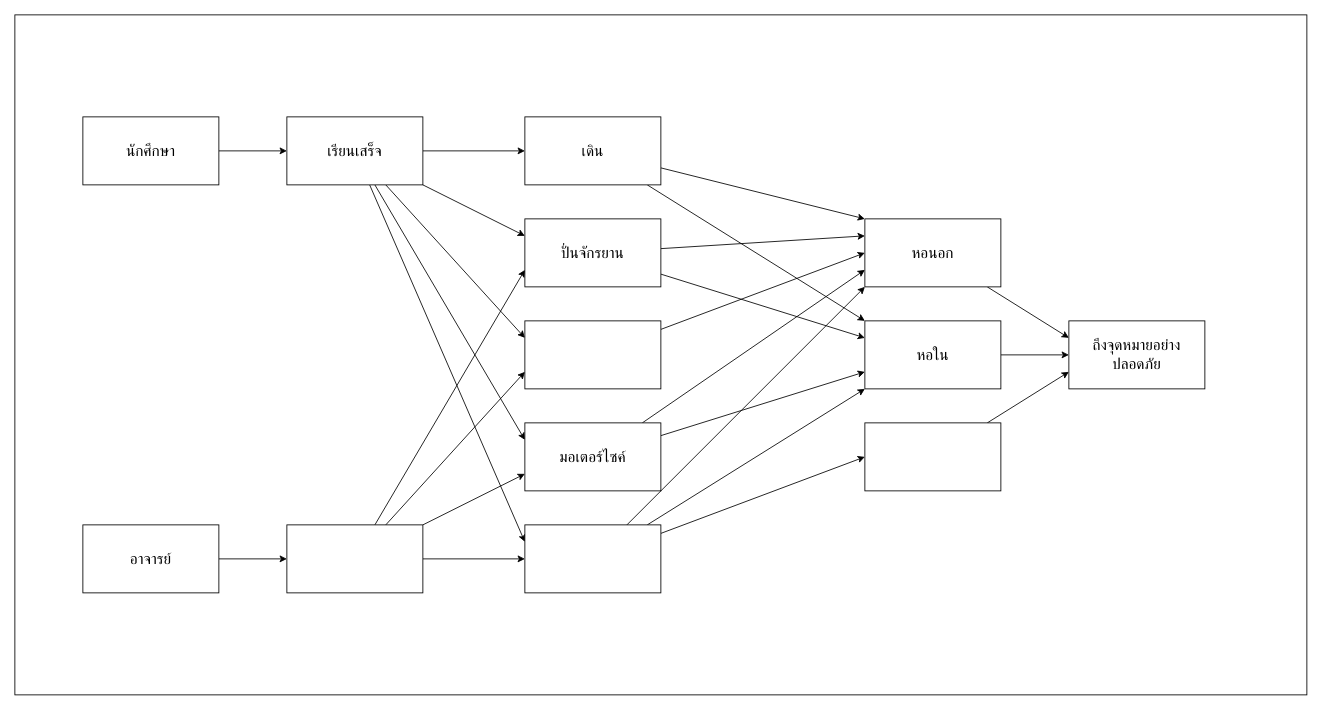
Image size: 1322x710. Some labels were removed from this diagram. Here are the shapes that lost their labels. From the top down, the centre of each, then its label:
(x=592, y=354): gogo bike
(x=932, y=456): กทม.
(x=354, y=558): สอนเสร็จ
(x=592, y=558): รถยนต์
